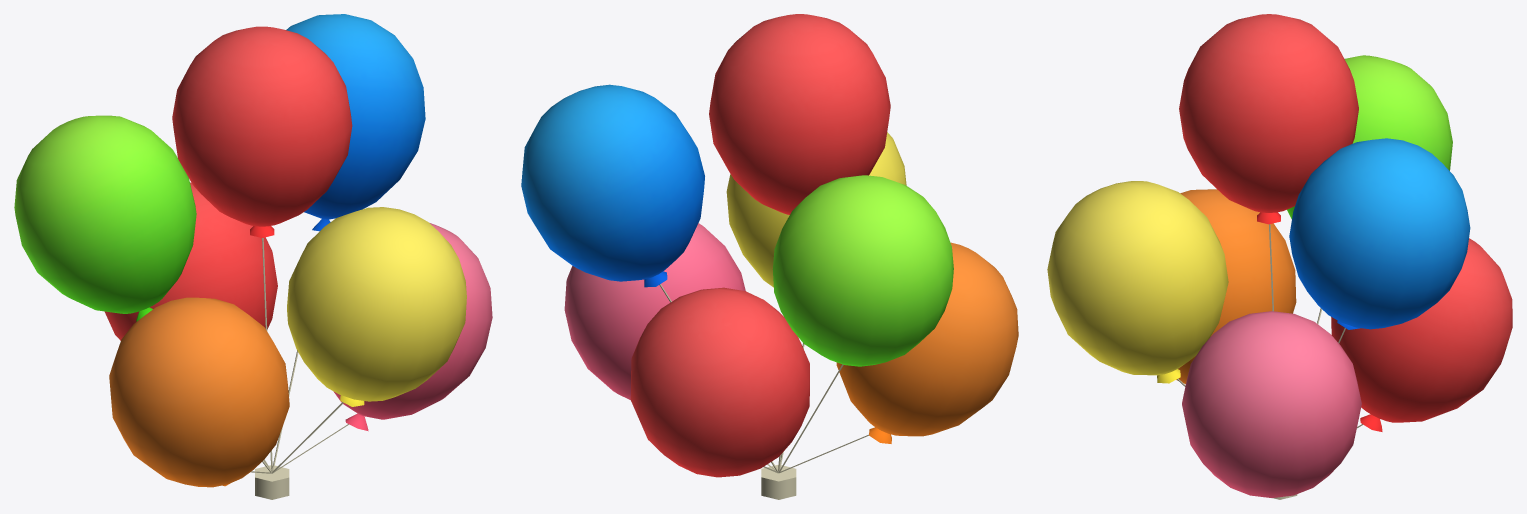
Rendered from Balloon.fbx.
3 renders of one model, left to right at view 1: azimuth 30°, elevation 25°; view 2: azimuth 150°, elevation 25°; view 3: azimuth 270°, elevation 25°, orthographic.
Visible parts, largest first — view 1: Balloon; view 2: Balloon; view 3: Balloon.
Part boxes in pixels (bbox=[...]): Balloon: bbox=[14, 14, 492, 499]; Balloon: bbox=[521, 14, 1018, 499]; Balloon: bbox=[1047, 14, 1512, 499].
Size of the model in its own units: 501 by 545 by 497.
